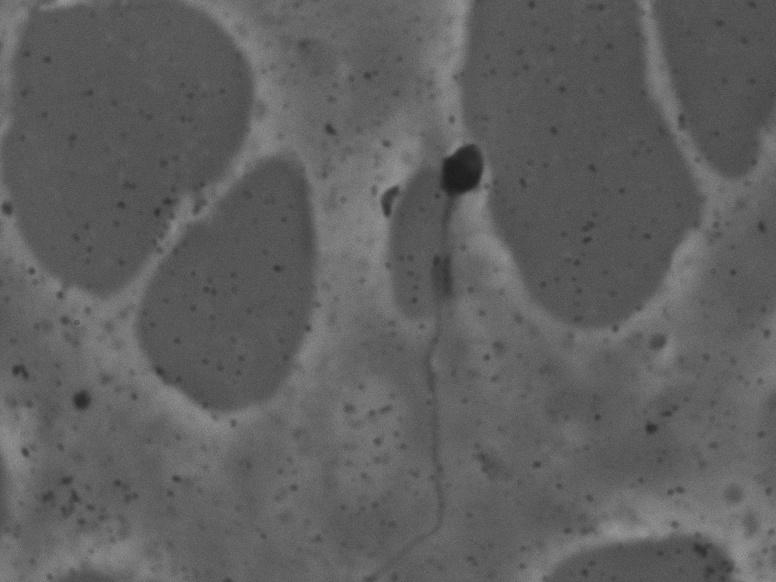Normal: (364, 129, 489, 571)
